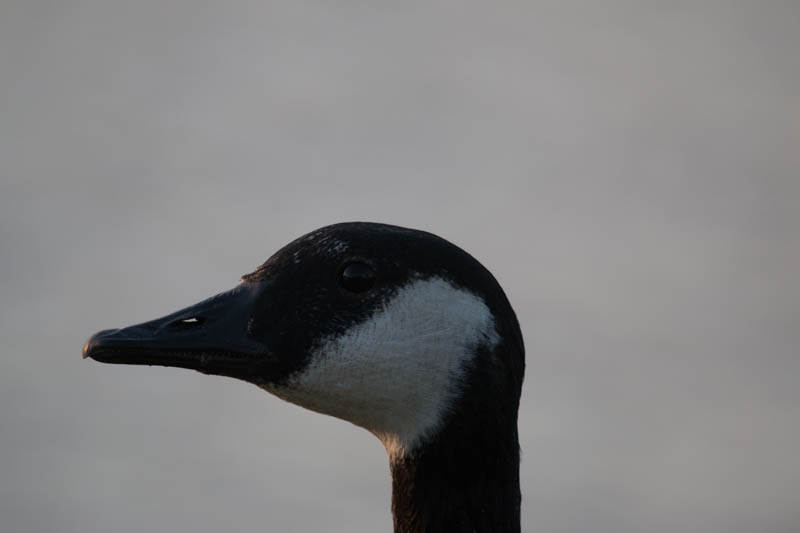goose-head: (81, 222, 526, 464)
